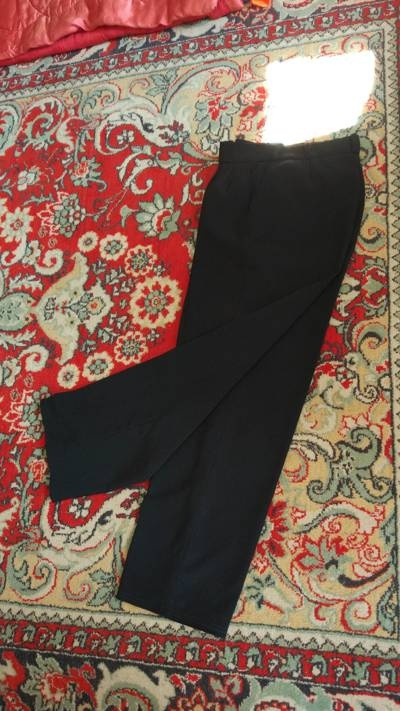Pants: (47, 80, 363, 647)
